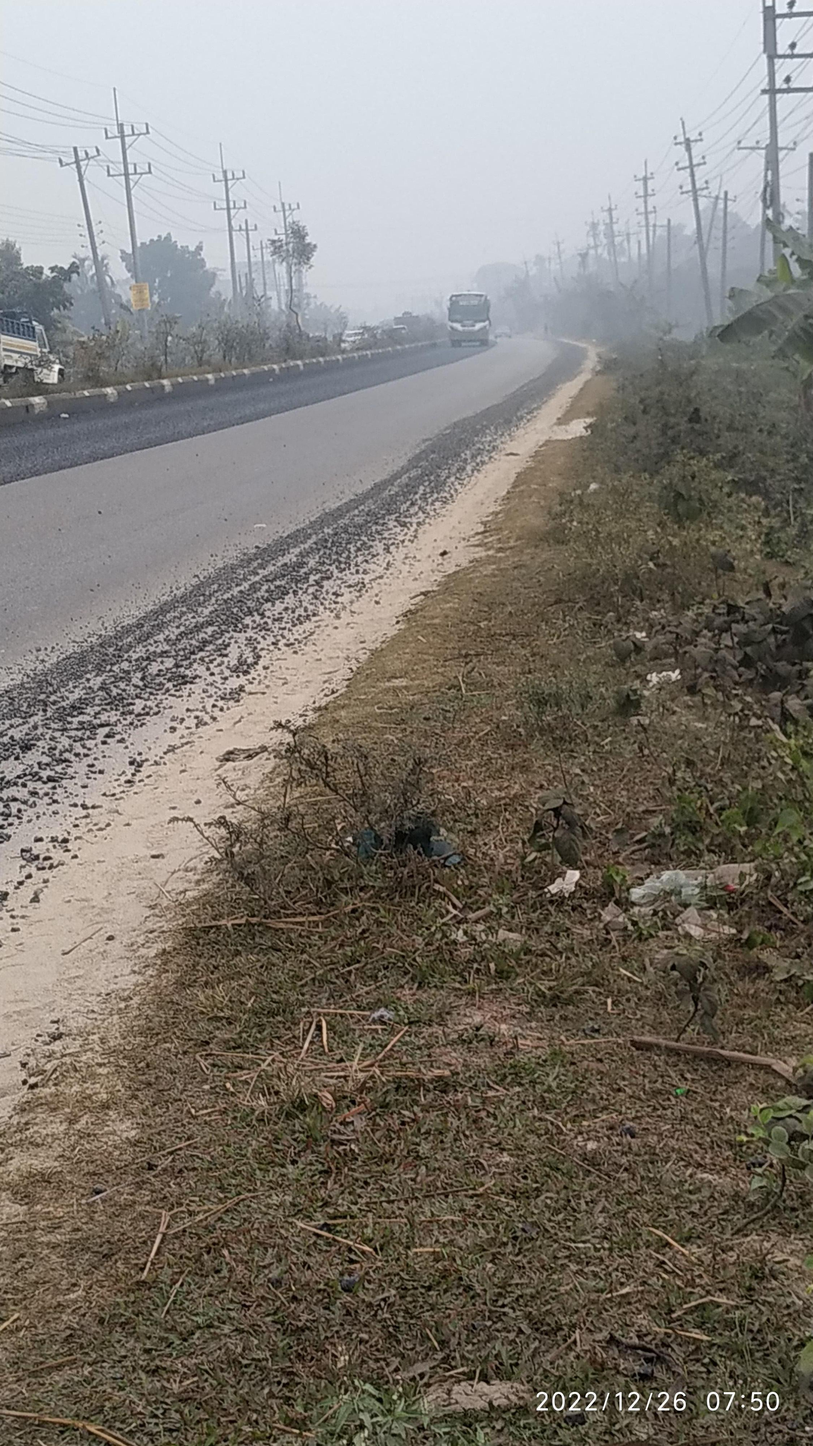Bus: (436, 271, 500, 363)
Truck: (3, 283, 84, 396)
